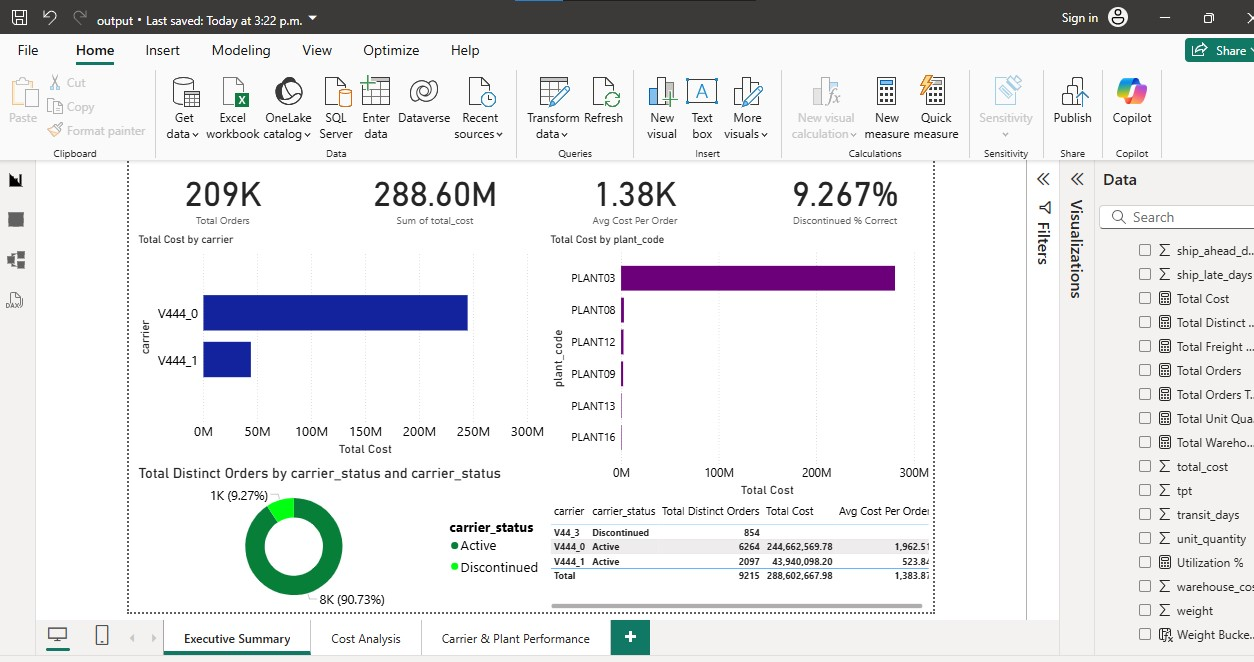

This screenshot's page, from the dashboard's own definition file:
{"tool":"powerbi","page":{"name":"Executive Summary","canvas":[1280,720],"ordinal":0},"visuals":[{"type":"card","fields":{"Values":["supply_chain_master.Total Orders"]},"box":[9.5,0,280.2,115.5],"z":0},{"type":"card","fields":{"Values":["Sum(supply_chain_master.total_cost)"]},"box":[346.5,0,280.2,115.5],"z":1},{"type":"card","fields":{"Values":["supply_chain_master.Avg Cost Per Order"]},"box":[666.5,0,280.2,115.5],"z":2},{"type":"card","fields":{"Values":["supply_chain_master.Discontinued % Correct"]},"box":[999.8,0,280.2,115.5],"z":4},{"type":"clusteredBarChart","fields":{"Category":["supply_chain_master.carrier"],"Y":["supply_chain_master.Total Cost"]},"box":[9.5,115.5,657,359.8],"z":5},{"type":"clusteredBarChart","fields":{"Category":["supply_chain_master.plant_code"],"Y":["supply_chain_master.Total Cost"]},"box":[666.5,115.5,613.5,424.1],"z":6},{"type":"donutChart","fields":{"Category":["supply_chain_master.carrier_status"],"Y":["supply_chain_master.Total Distinct Orders"],"Series":["supply_chain_master.carrier_status"]},"box":[9,486,657,234],"z":7},{"type":"tableEx","fields":{"Values":["supply_chain_master.carrier","supply_chain_master.carrier_status","supply_chain_master.Total Distinct Orders","supply_chain_master.Total Cost","supply_chain_master.Avg Cost Per Order"]},"box":[666.5,539.6,613.5,179.9],"z":8}]}

Visuals, with their boxes on the page's 1280x720 design canvas (x1, y1, x2, y2). These are canvas units, not pixel positions in the 1254x662 screenshot, which may show the page scaled, cropped or inside an application window:
card - supply_chain_master.Total Orders: <region>10, 0, 290, 116</region>
card - Sum(supply_chain_master.total_cost): <region>346, 0, 627, 116</region>
card - supply_chain_master.Avg Cost Per Order: <region>666, 0, 947, 116</region>
card - supply_chain_master.Discontinued % Correct: <region>1000, 0, 1280, 116</region>
clusteredBarChart - supply_chain_master.carrier x supply_chain_master.Total Cost: <region>10, 116, 666, 475</region>
clusteredBarChart - supply_chain_master.plant_code x supply_chain_master.Total Cost: <region>666, 116, 1280, 540</region>
donutChart - supply_chain_master.carrier_status x supply_chain_master.Total Distinct Orders: <region>9, 486, 666, 720</region>
tableEx - supply_chain_master.carrier x supply_chain_master.carrier_status: <region>666, 540, 1280, 720</region>
